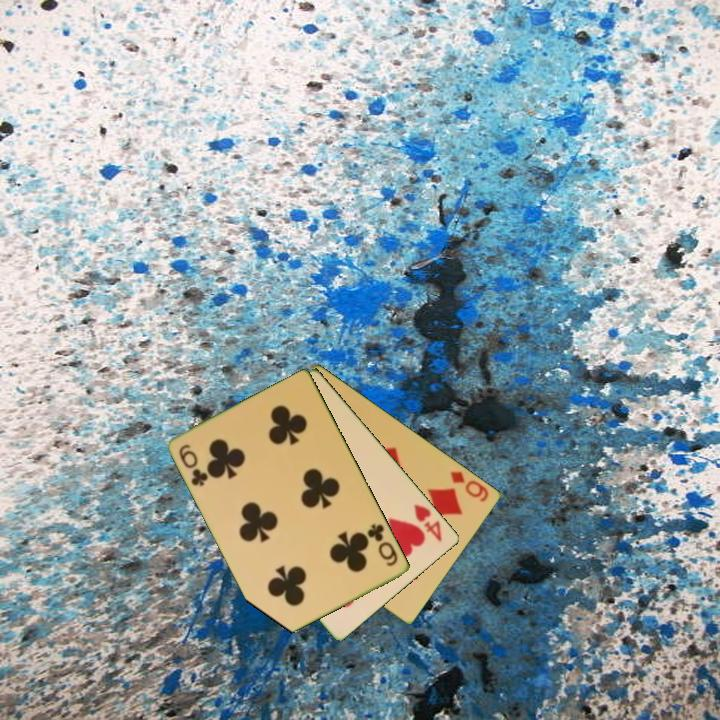4h: (411, 500, 446, 545)
6c: (364, 520, 401, 570), (176, 441, 212, 490)
6d: (447, 467, 492, 505)
